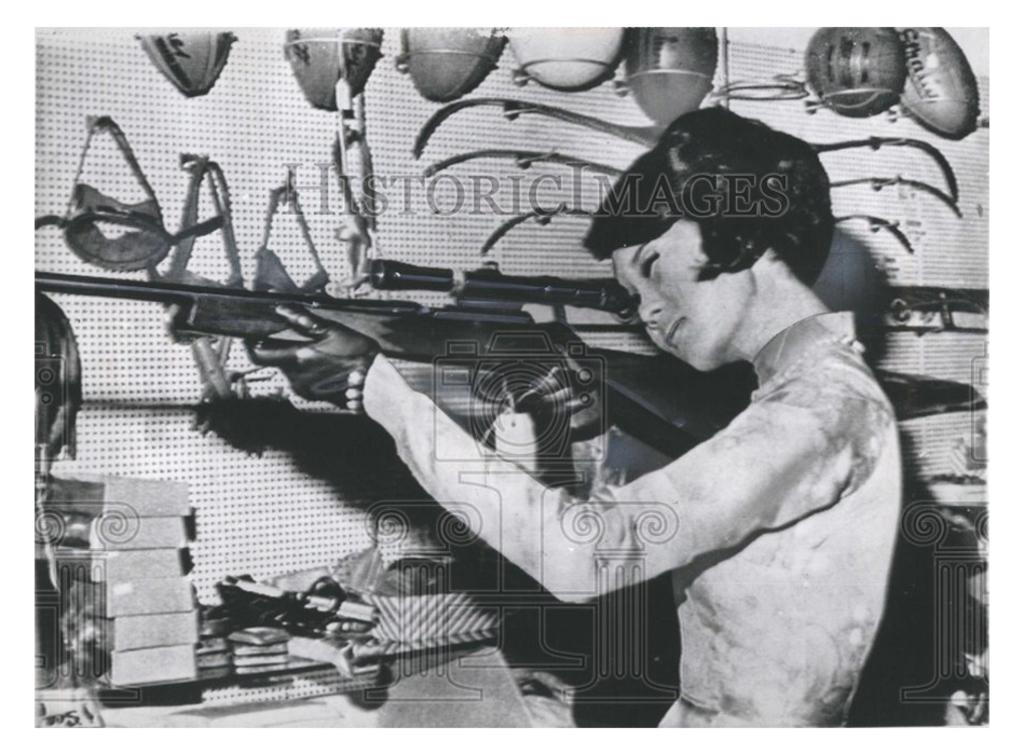Rifle: (106, 234, 714, 478)
